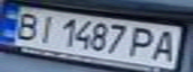1: (54, 16, 78, 47)
4: (72, 18, 93, 52)
7: (106, 21, 133, 56)
8: (90, 20, 112, 53)
A: (145, 28, 184, 63)
B: (6, 9, 45, 40)
I: (30, 12, 60, 44)
P: (124, 25, 163, 60)
